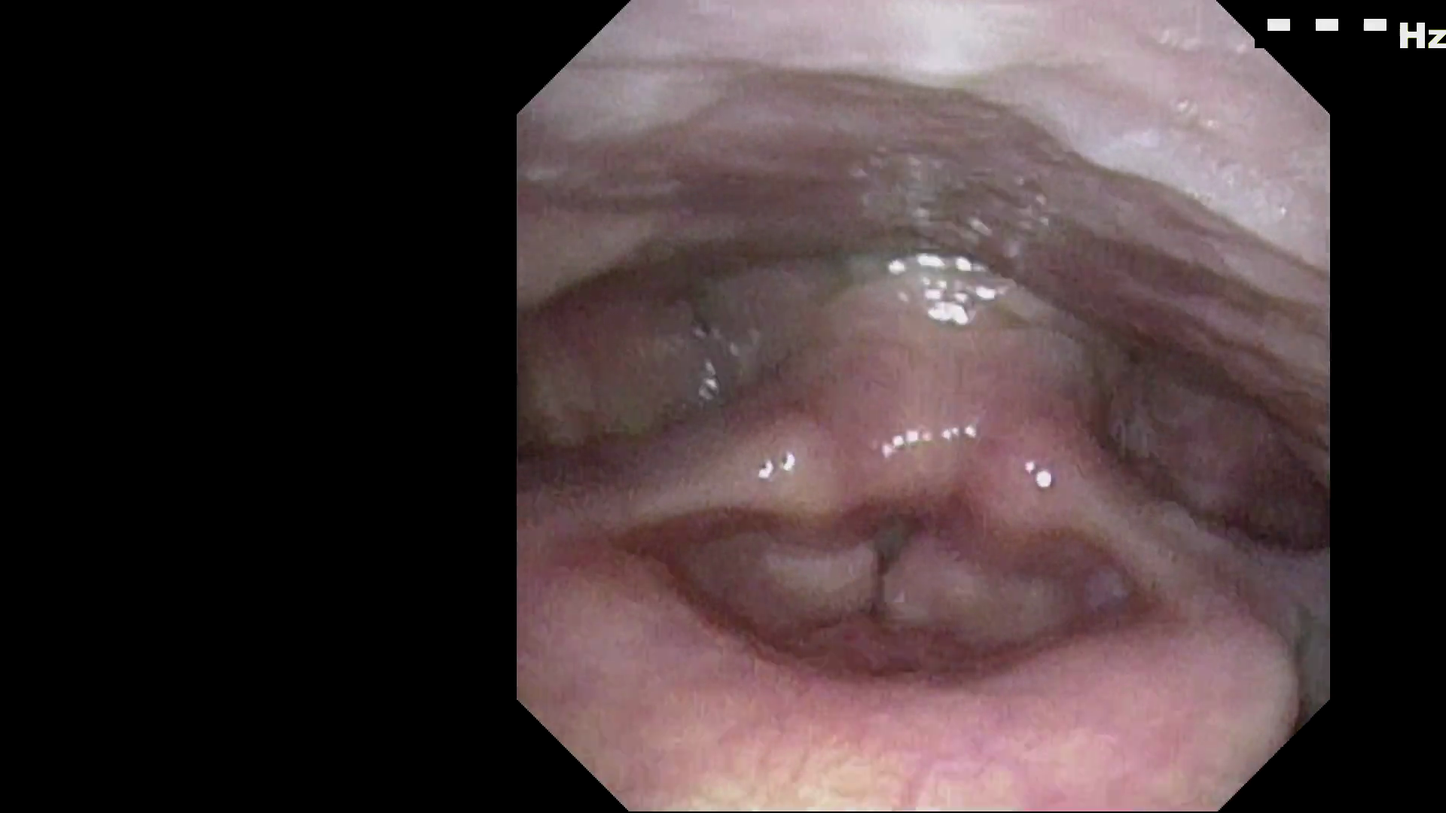epiglottis: (532, 514, 1279, 763)
trachea: (831, 455, 957, 603)
